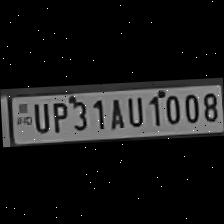0: (178, 90, 200, 124), (161, 92, 181, 126)
1: (88, 96, 106, 132), (144, 92, 162, 128)
3: (66, 96, 88, 132)
8: (198, 89, 218, 123)
A: (104, 94, 125, 130)
P: (47, 99, 69, 133)
U: (124, 92, 144, 128), (28, 100, 48, 134)
